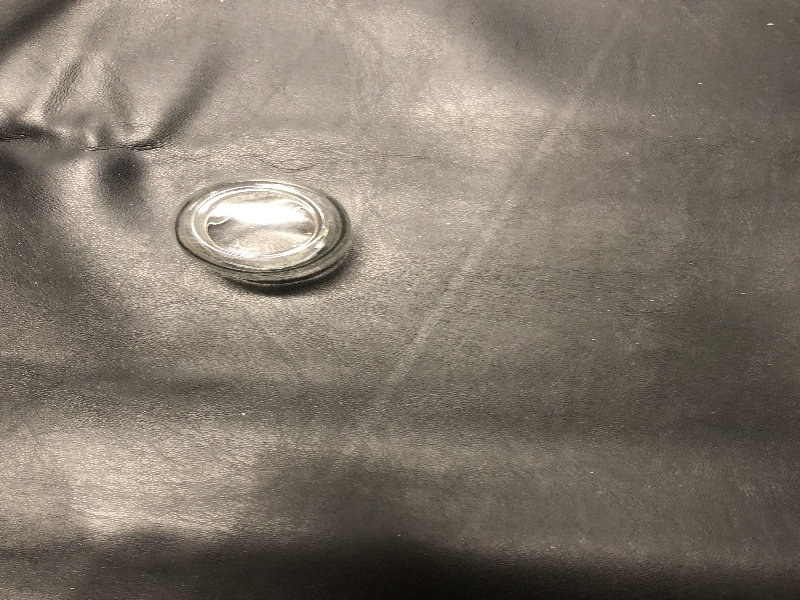glass: (165, 173, 358, 292)
